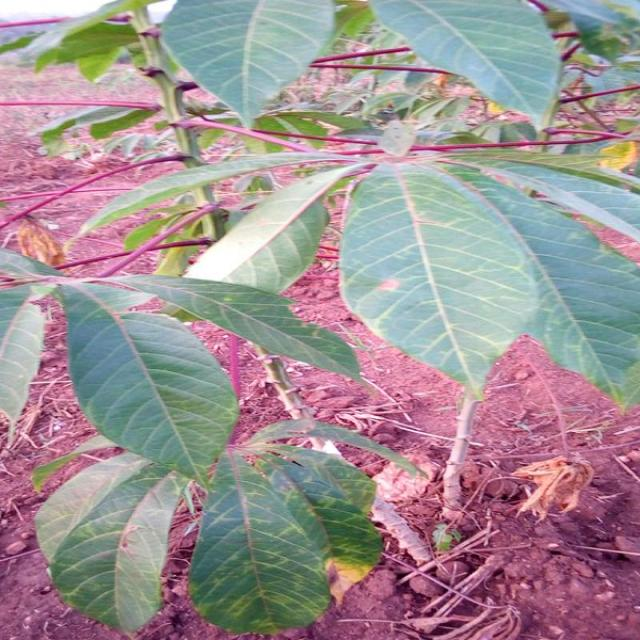cassava leaf: (338, 156, 638, 412), (56, 278, 239, 487), (34, 448, 188, 634), (186, 447, 333, 635), (368, 0, 563, 133), (158, 0, 338, 131)
